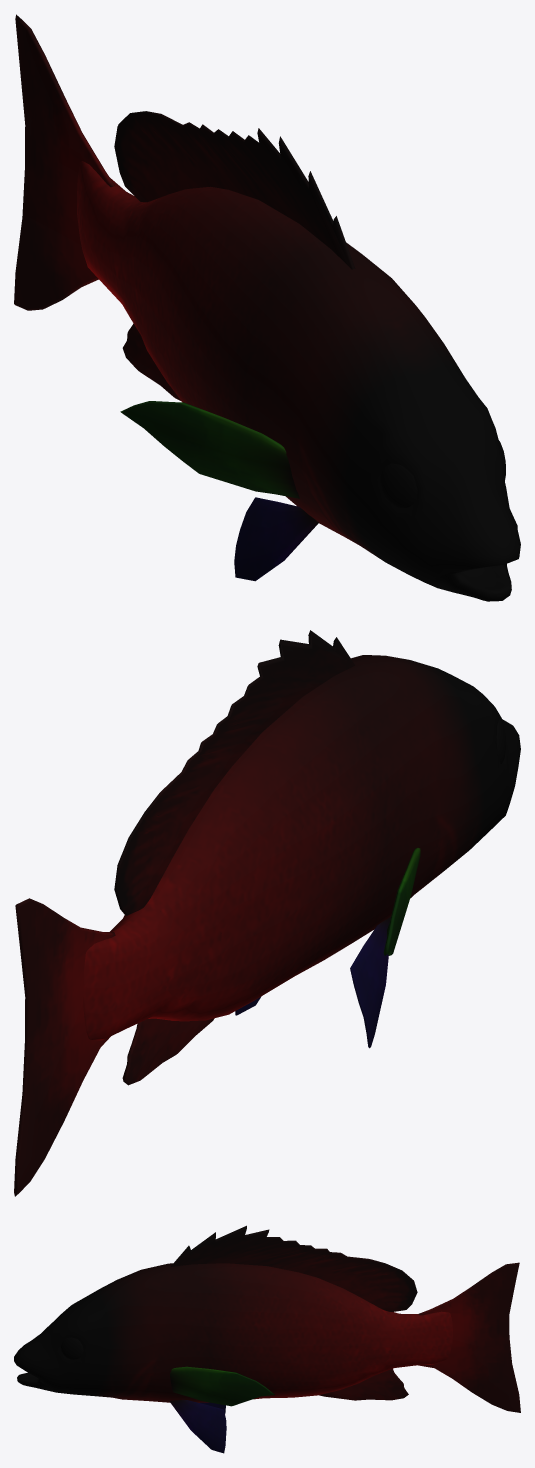
Rendered from grey-snapper-meshopt.glb.
3 views of the same model, one above another, from view 1: azimuth 30°, elevation 25°; view 2: azimuth 150°, elevation 25°; view 3: azimuth 270°, elevation 25° (orthographic). The views are drawn at different scales.
Visible parts, largest first — view 1: fish_vertColor_low; view 2: fish_vertColor_low; view 3: fish_vertColor_low.
Part boxes in pixels (left/top/right/bottom): fish_vertColor_low: left=14, top=14, right=520, bottom=601; fish_vertColor_low: left=14, top=630, right=520, bottom=1196; fish_vertColor_low: left=14, top=1225, right=520, bottom=1453.
Bounding box in the file's own units: 12.55 × 18.46 × 40.16.
1 material, 1 textured.
